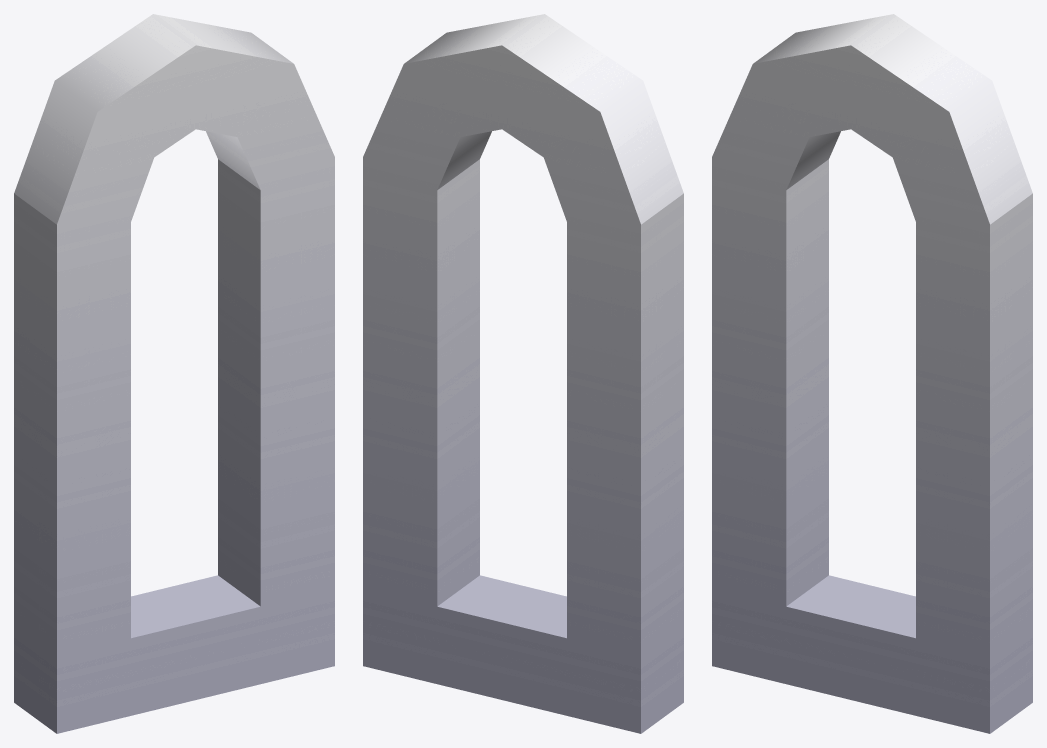
3 renders of one model, left to right at view 1: azimuth 30°, elevation 25°; view 2: azimuth 150°, elevation 25°; view 3: azimuth 330°, elevation 25°, orthographic.
Parts seen in each view (by area): view 1: window-white-round-narrow; view 2: window-white-round-narrow; view 3: window-white-round-narrow.
Part boxes in pixels (box(x1,y1,x2,y2)): window-white-round-narrow: box(14, 14, 334, 733); window-white-round-narrow: box(363, 14, 683, 733); window-white-round-narrow: box(712, 14, 1032, 733).
Bounding box in the file's own units: 0.1875 × 0.4219 × 0.05.
Materials: 1 (1 with a texture image).
